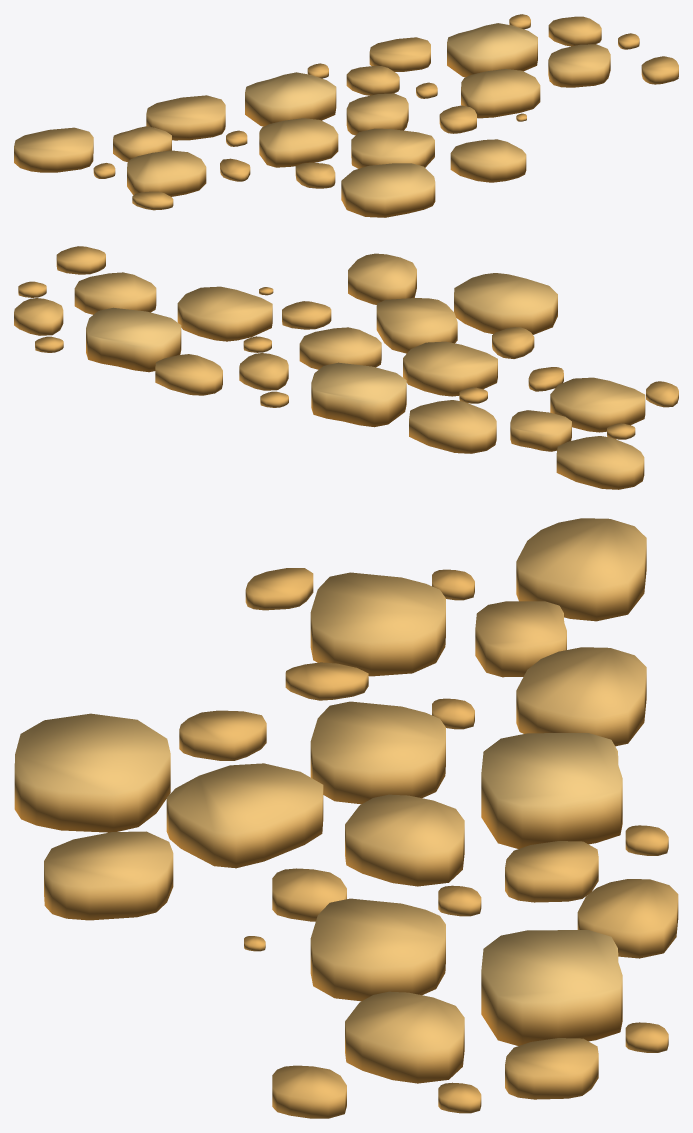
The model's file is obj_PathTSand.fbx.
3 renders of one model, top to bottom at view 1: azimuth 30°, elevation 25°; view 2: azimuth 150°, elevation 25°; view 3: azimuth 270°, elevation 25°, orthographic. The views are drawn at different scales.
Visible parts, largest first — view 1: obj_PathTSand; view 2: obj_PathTSand; view 3: obj_PathTSand.
Boxes of the visible parts, left/top/right/bottom form: obj_PathTSand: left=14, top=14, right=678, bottom=217; obj_PathTSand: left=14, top=246, right=678, bottom=489; obj_PathTSand: left=14, top=518, right=678, bottom=1118.
Size of the model in its own units: 2362 by 85.29 by 1152.
